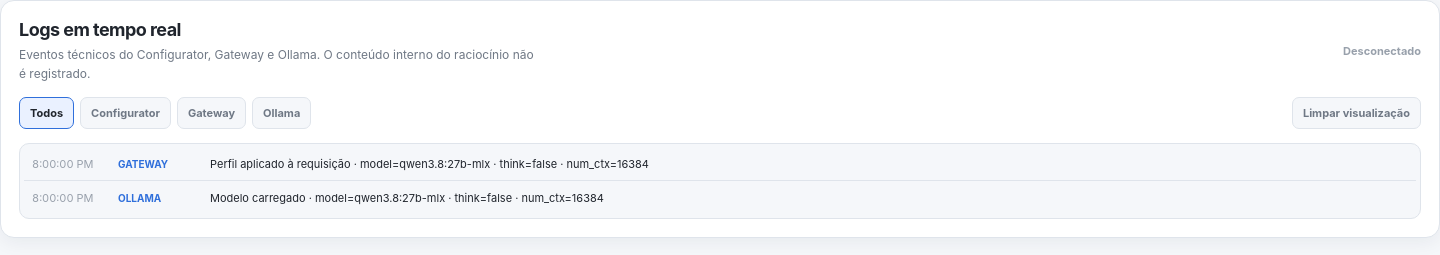
it: filters events by service and clears the visible list
Expected: the text "Modelo carregado" is shown, 210,191 -> 306,205
Step 1. Click the button "Gateway" → (211, 113), box 177,97 -> 246,129
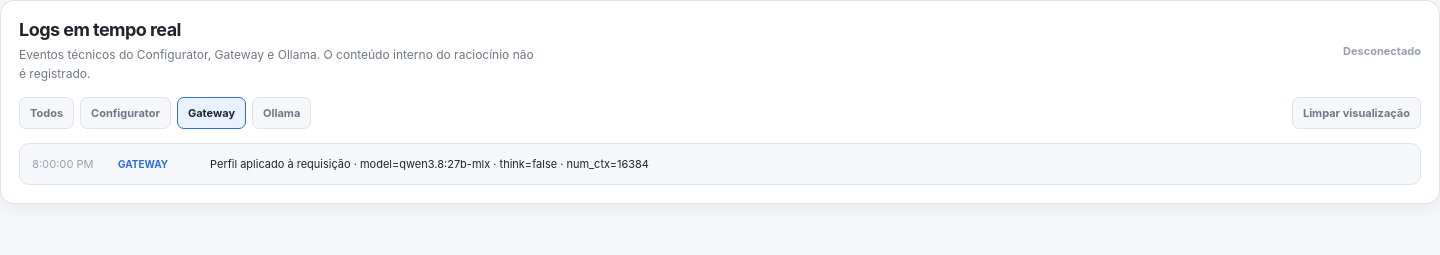
Expected: the text "Perfil aplicado" is shown, 210,157 -> 351,171
Expected: the text "Modelo carregado" is gone
Step 2. Click the button "Limpar visualização" → (1356, 113), box 1292,97 -> 1421,129
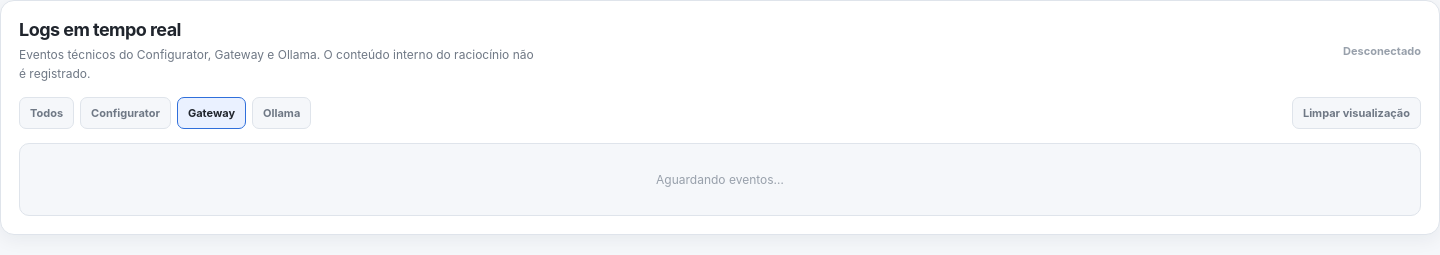
Expected: the text "Aguardando eventos…" is shown, 656,172 -> 784,187
